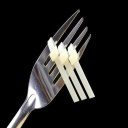Fork: (15, 14, 109, 128)
